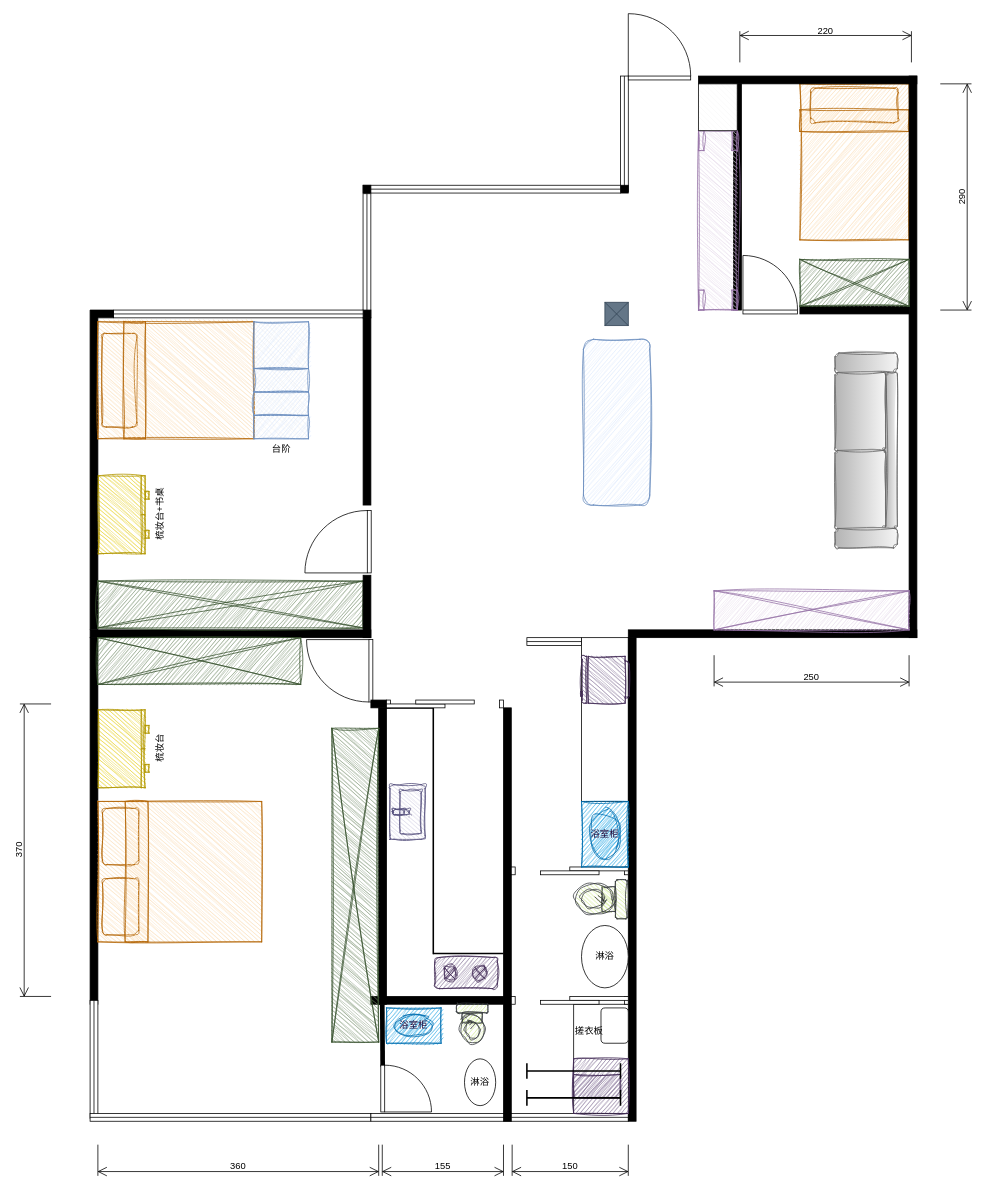
This 985x1190 diagram has some shape labels left out. The shapes that lost their labels are listed below. From the top down, each one's box as (x1, y1, x2, y2) in pixels, then its label:
(698, 130, 737, 310): 鞋柜
(583, 339, 650, 505): 桌子
(713, 590, 909, 630): 餐边柜
(600, 1007, 628, 1043): 锅炉
(573, 1074, 620, 1098): 洗烘套装
